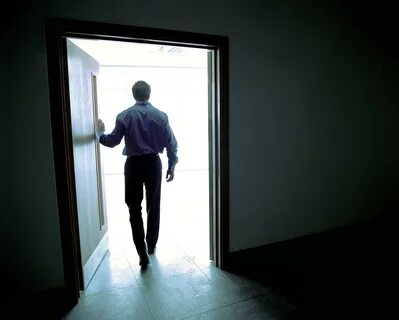awake: (94, 79, 179, 269)
